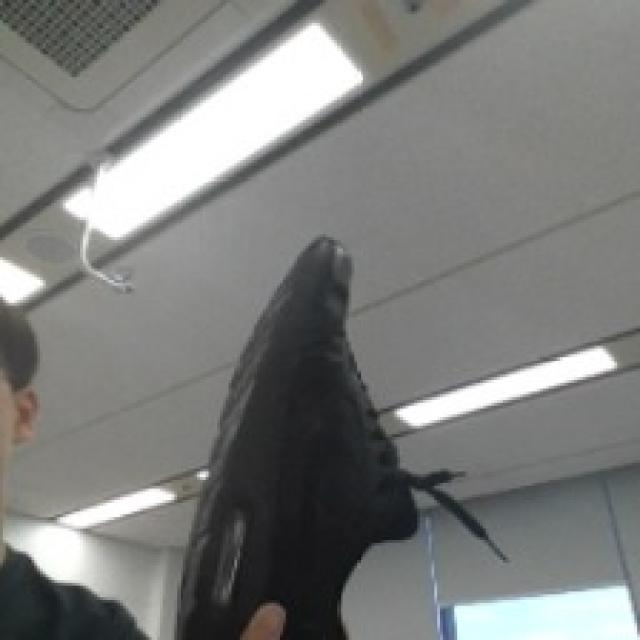shoe: (174, 234, 422, 640)
